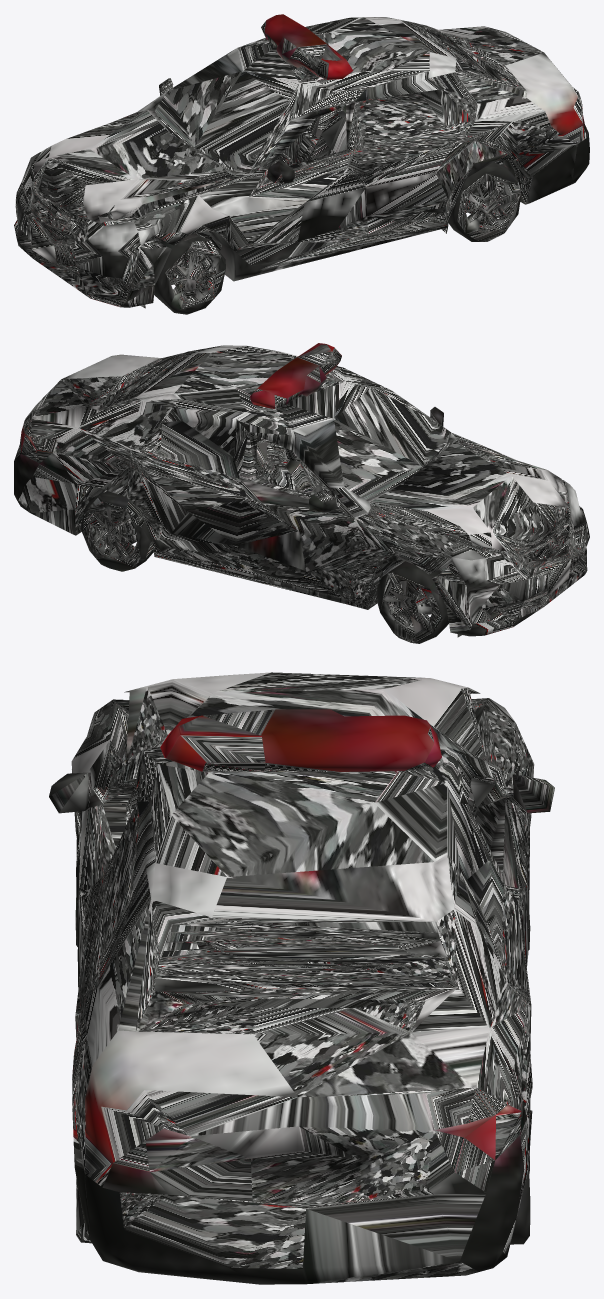
The model's file is police-car.glb.
3 views of the same model, one above another, from view 1: azimuth 30°, elevation 25°; view 2: azimuth 150°, elevation 25°; view 3: azimuth 270°, elevation 25° (orthographic). The views are drawn at different scales.
Parts seen in each view (by area): view 1: Mesh_0; view 2: Mesh_0; view 3: Mesh_0.
Part boxes in pixels (x1=…): Mesh_0: x1=14, y1=14, x2=589, y2=314; Mesh_0: x1=14, y1=343, x2=589, y2=643; Mesh_0: x1=49, y1=672, x2=554, y2=1284.
Bounding box in the file's own units: 1.9 × 0.6908 × 0.8115.
Materials: 1 (1 with a texture image).
